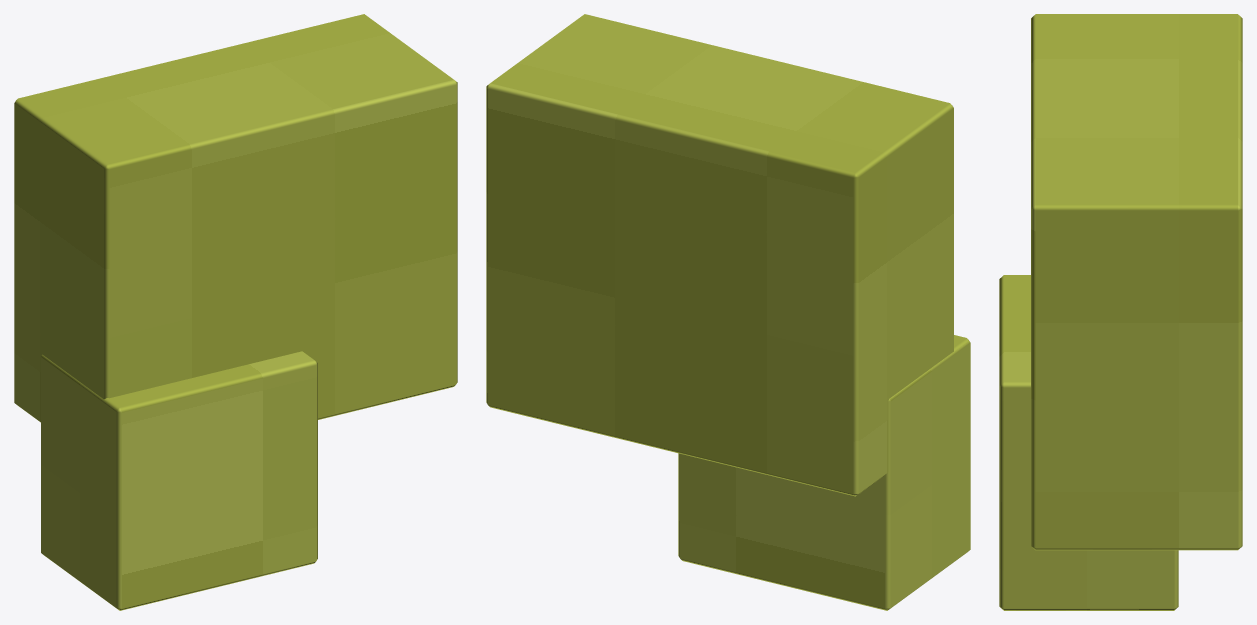
Rendered from Pendant-ivy-leaf.glb.
The picture shows the model from 3 angles, left to right: view 1: azimuth 30°, elevation 25°; view 2: azimuth 150°, elevation 25°; view 3: azimuth 270°, elevation 25°; orthographic projection. The views are drawn at different scales.
Visible parts, largest first — view 1: Pendant-ivy-leaf; view 2: Pendant-ivy-leaf; view 3: Pendant-ivy-leaf.
Boxes of the visible parts, x1,y1,x2,y2 form: Pendant-ivy-leaf: (14,14,457,610); Pendant-ivy-leaf: (486,14,970,610); Pendant-ivy-leaf: (999,14,1242,610).
Bounding box in the file's own units: 0.0968 × 0.1135 × 0.0509.
Materials: 1 (1 with a texture image).
